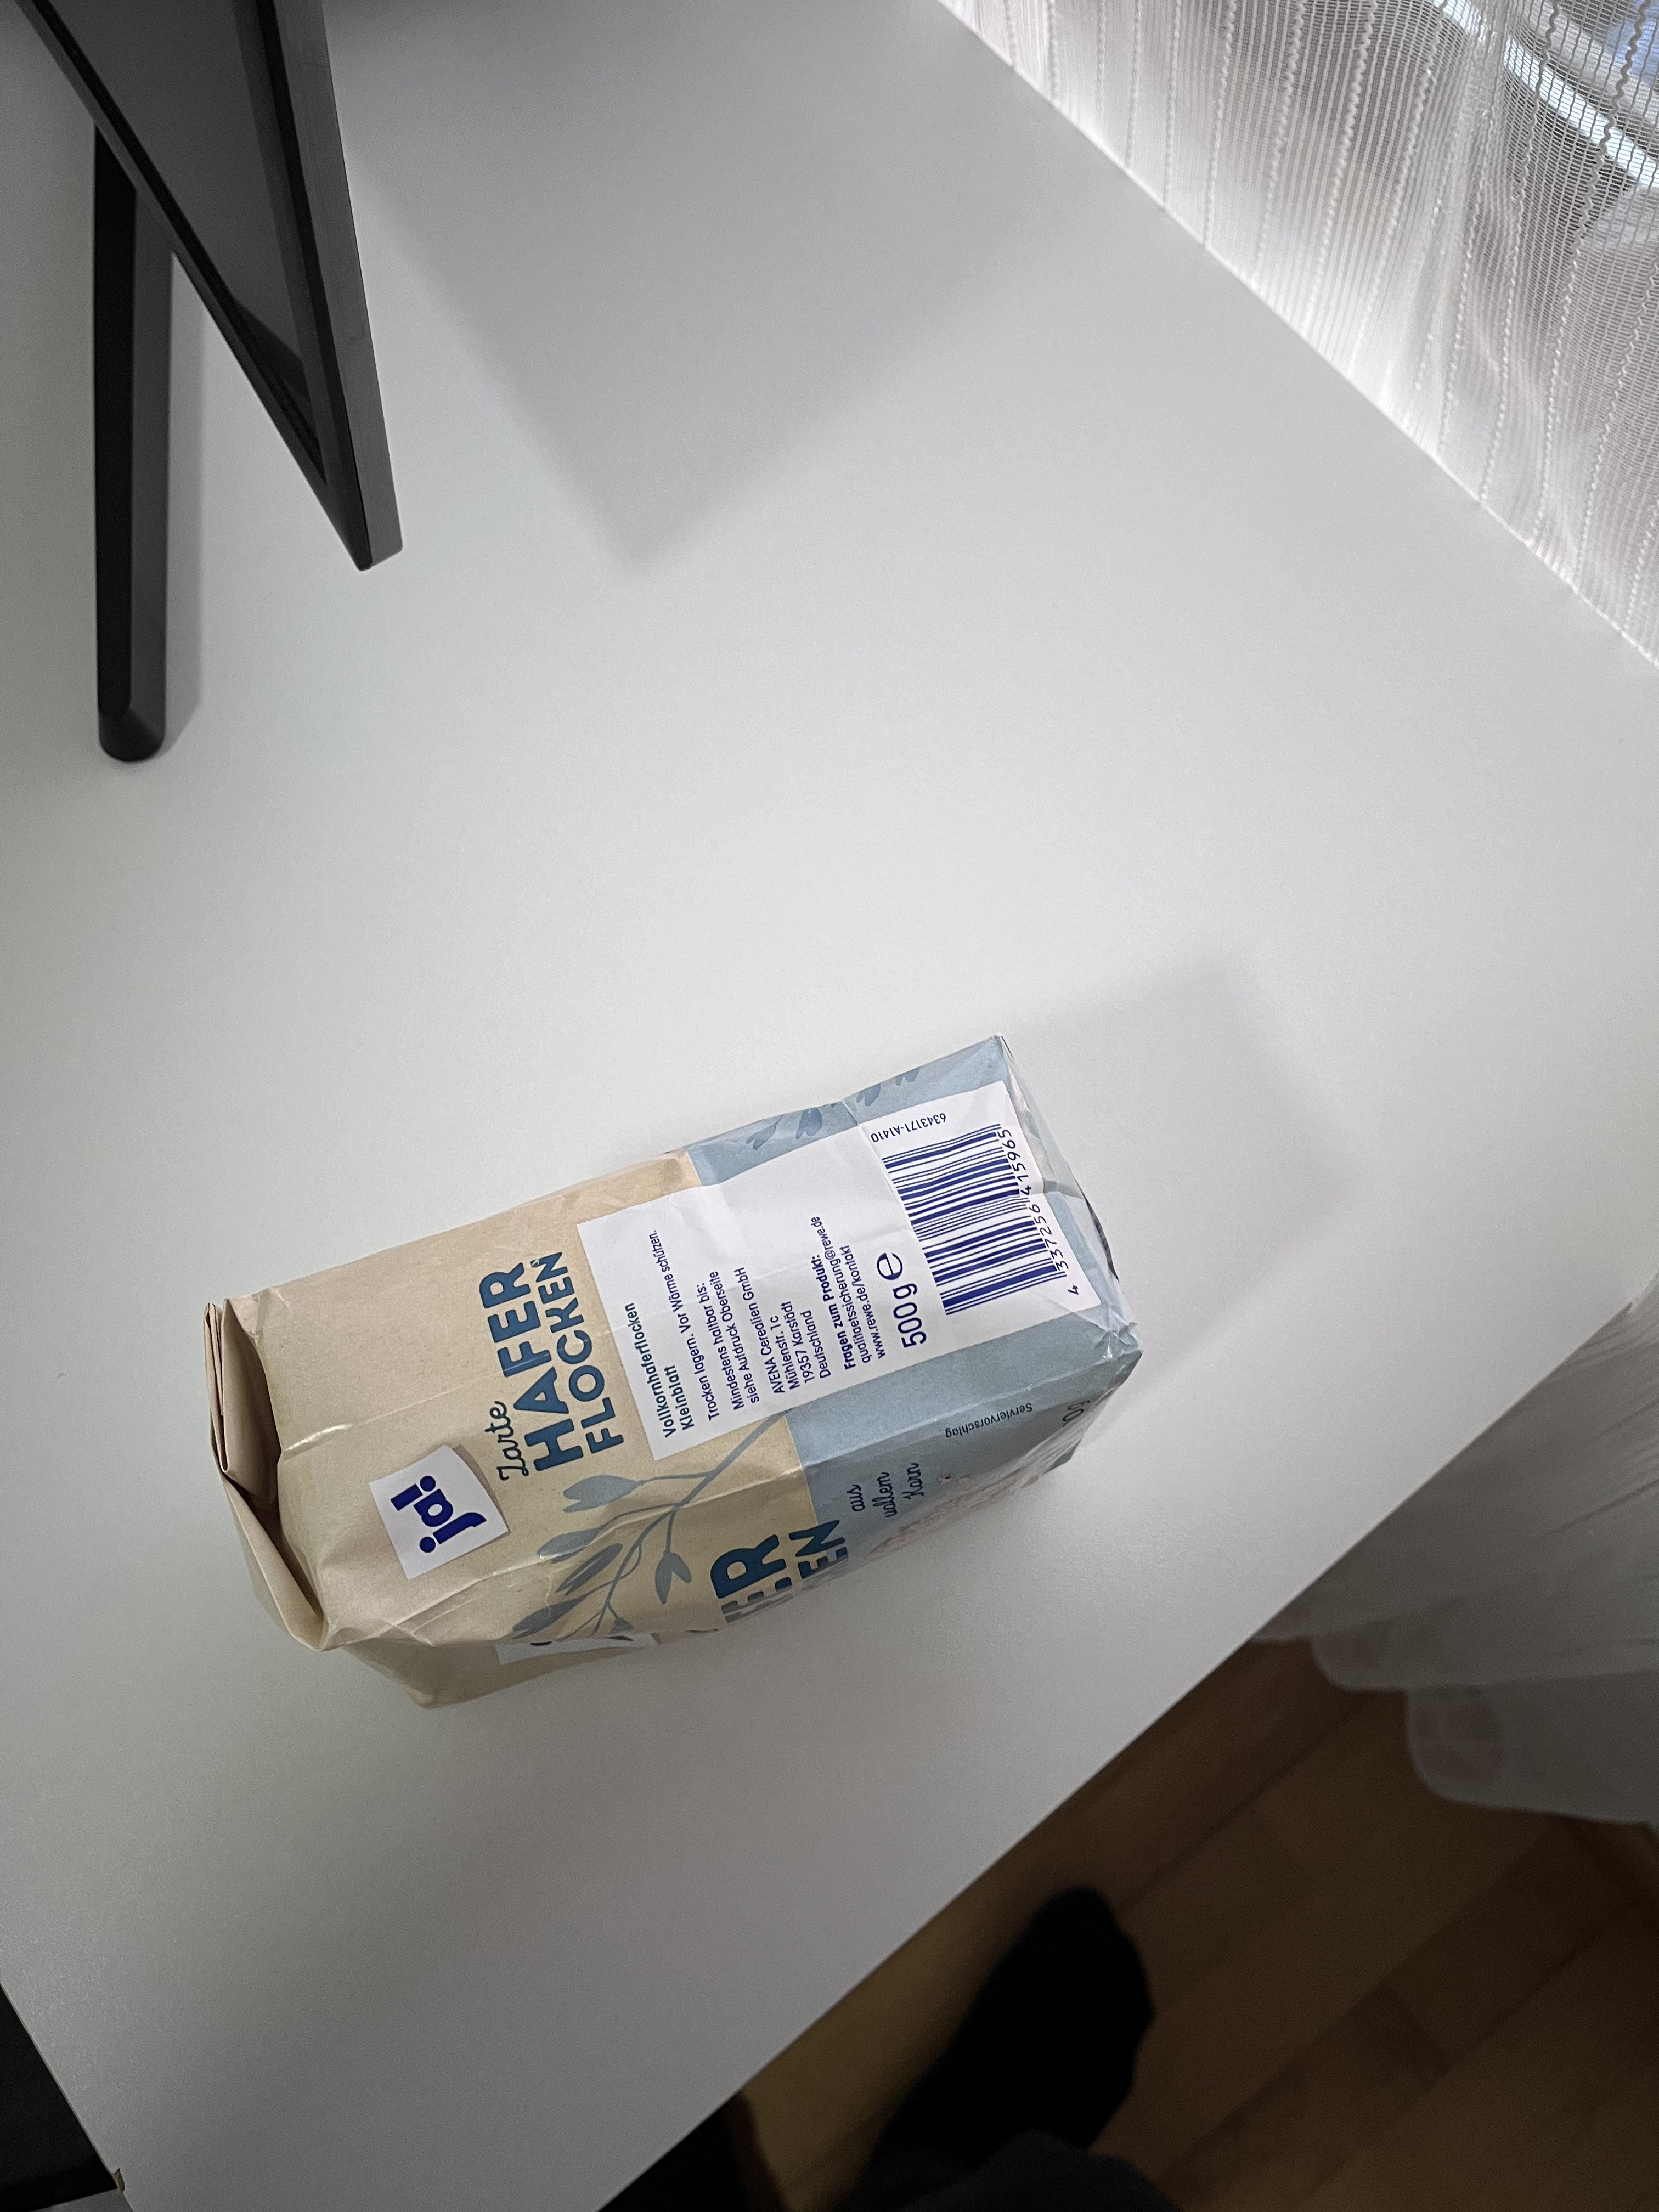haferflocken_ja: (202, 1035, 1141, 1705)
